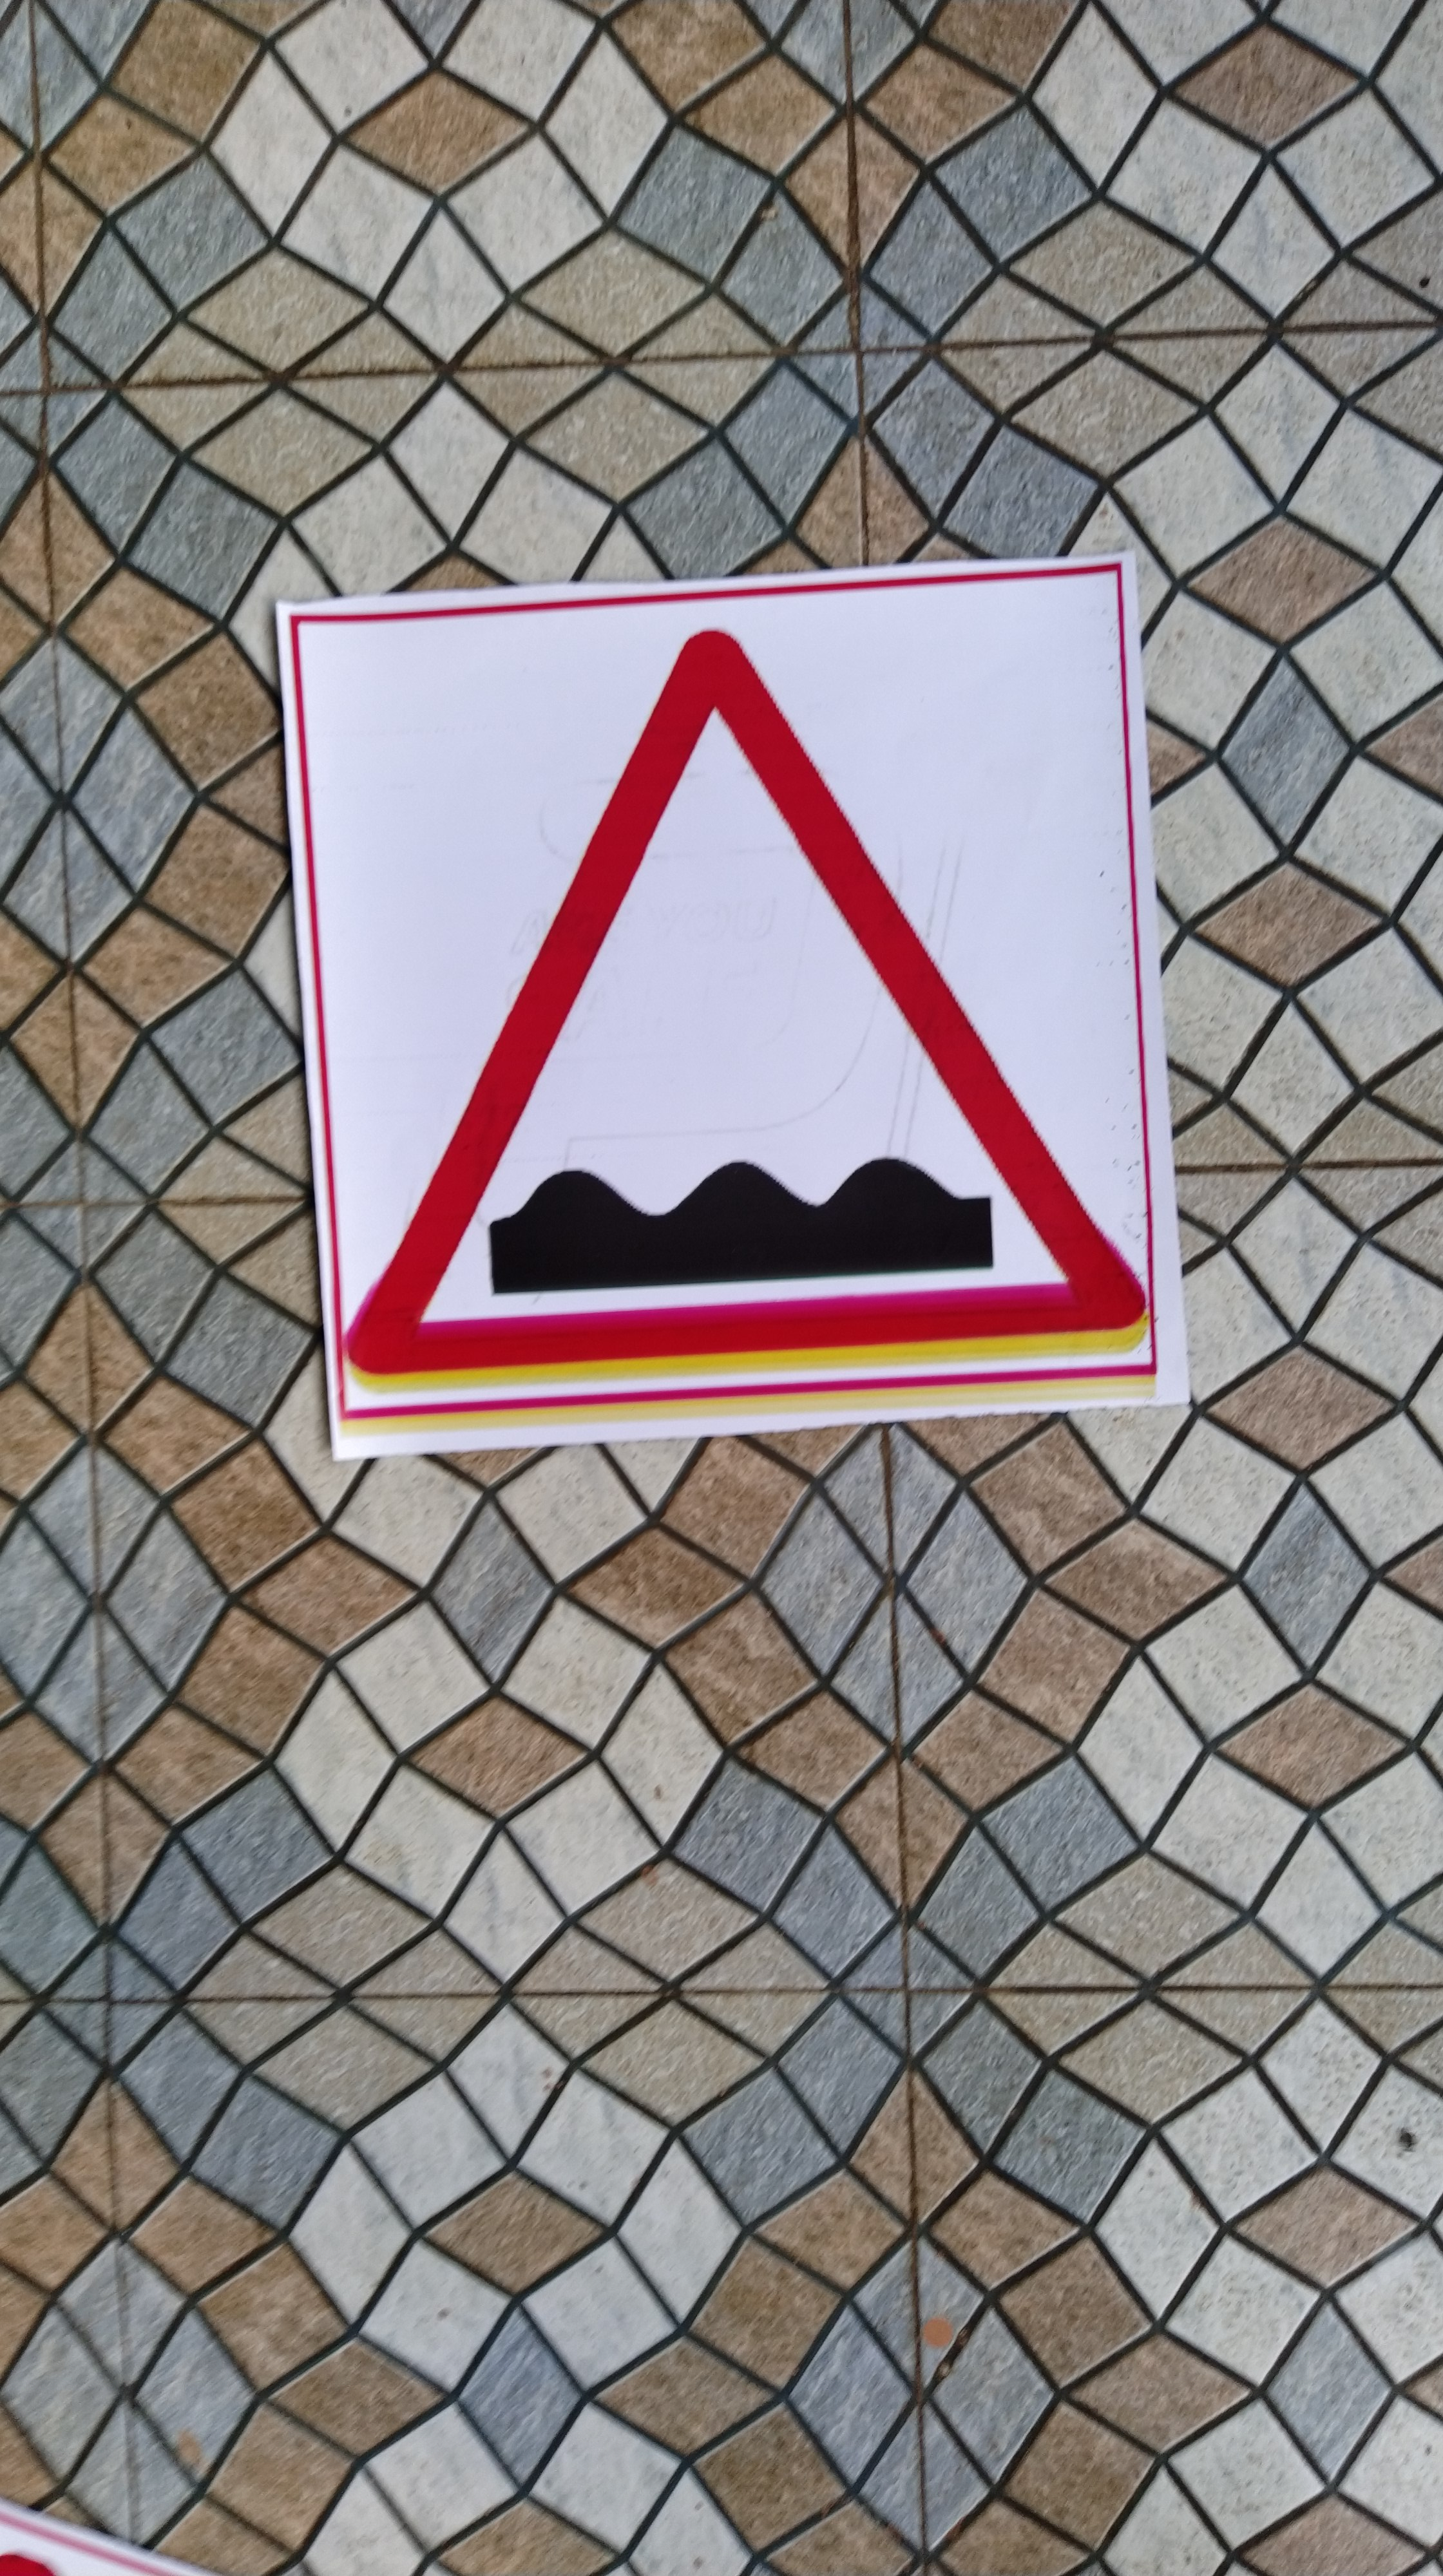speed breaker: (280, 607, 1174, 1419)
